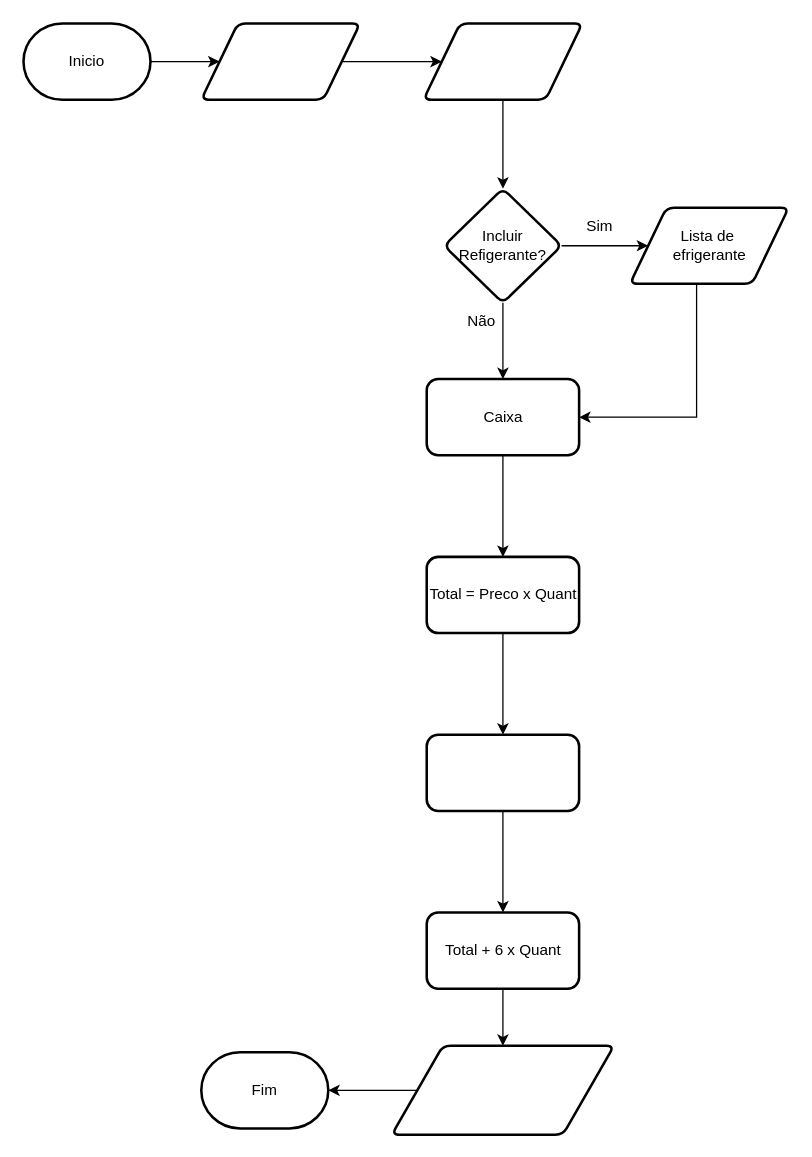
Some shapes in this 812 by 1157 pixel diagram are drawn without their labels. Each missing label, with the centre of its shape:
Apresentar: nome, total, Subtotal: the point at 502,1089
NomeCliente: the point at 280,61
PrecoLanche, Quant: the point at 502,61
Total + PrecoRefri: the point at 502,772
